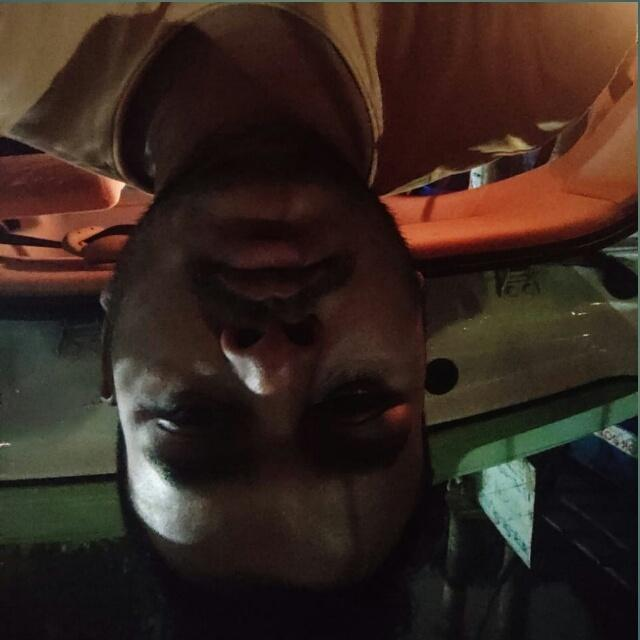Angry: (38, 111, 517, 640)
